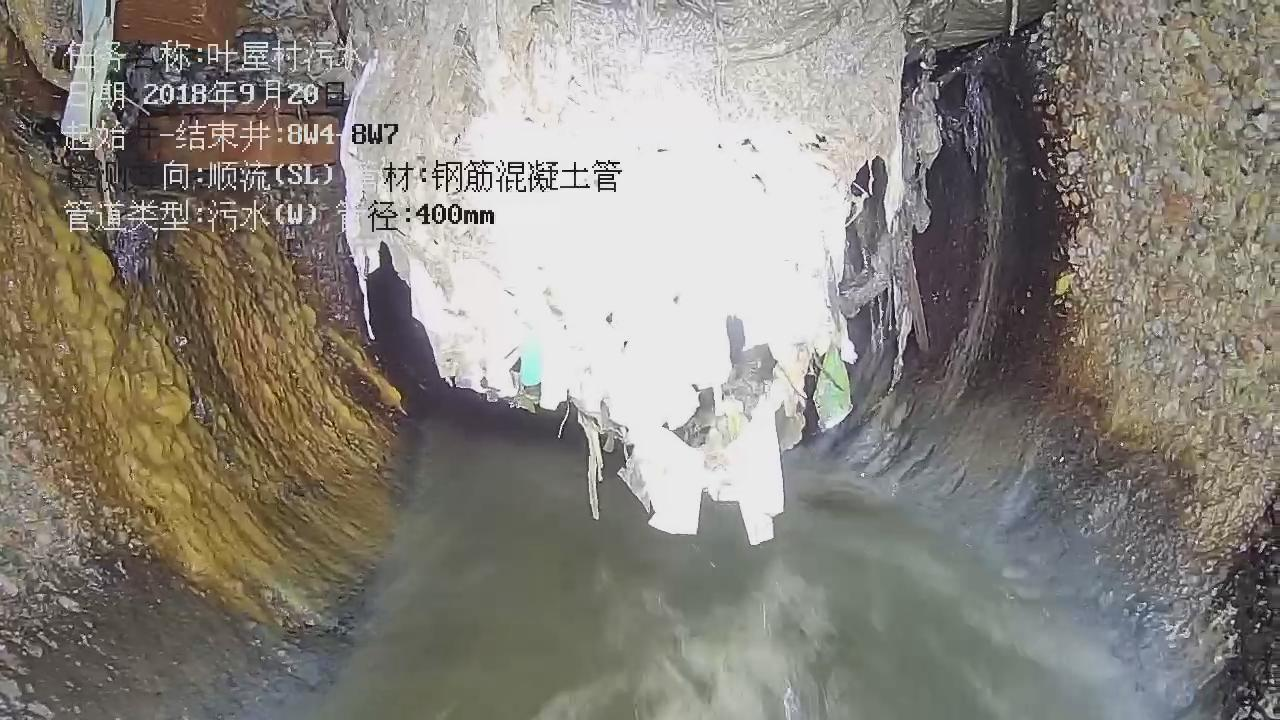YWCR: (342, 0, 939, 544)
